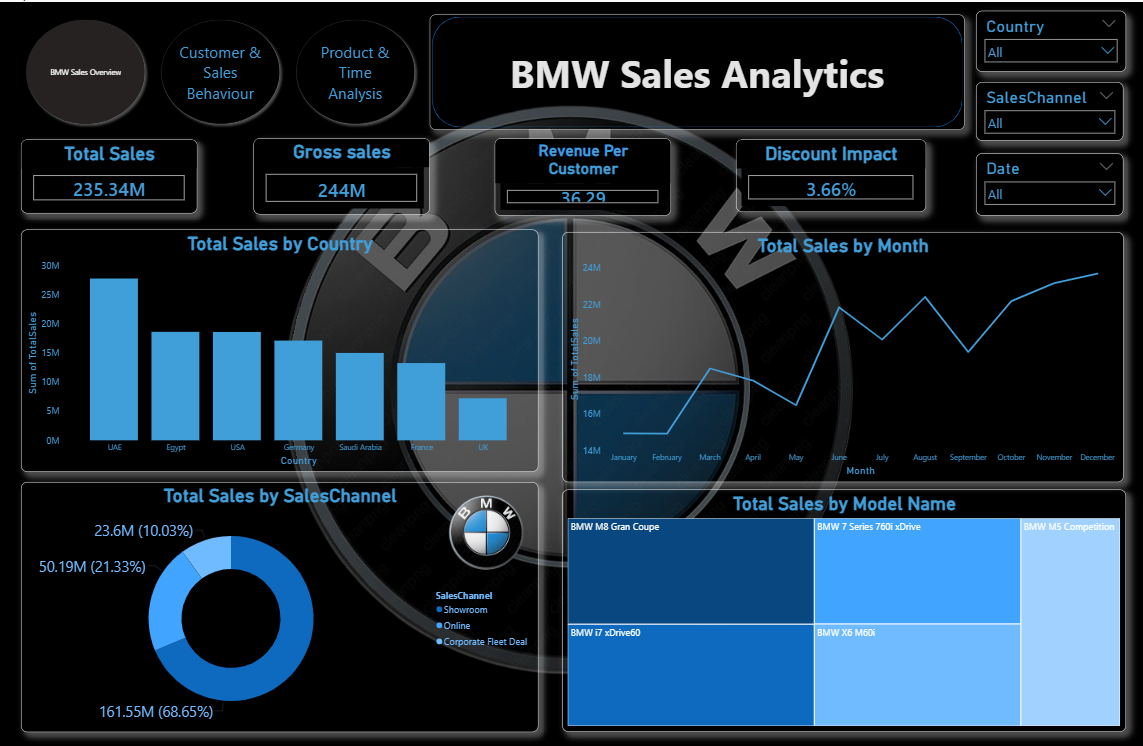

Layout of this report page (visuals, bound fields, positions):
{"tool":"powerbi","page":{"name":"BMW Sales Overview","canvas":[2000,1300],"ordinal":0},"visuals":[{"type":"image","box":[100.2,100.2,1777.5,1171.9],"z":0},{"type":"shape","box":[755.9,21.8,932.3,200.4],"z":1000},{"type":"cardVisual","title":"Gross sales","fields":{"Data":["Fact_Sales5.Gross Sales"]},"box":[448.7,237.4,307.1,132.9],"z":2000},{"type":"cardVisual","title":"Total Sales","fields":{"Data":["Sum(Fact_Sales5.TotalSales)"]},"box":[43.6,239.6,307.1,128.5],"z":3000},{"type":"cardVisual","title":"Revenue Per Customer","fields":{"Data":["Fact_Sales5.Revenue per Customer"]},"box":[869.1,237.4,307.1,135.1],"z":4000},{"type":"cardVisual","title":"Discount Impact","fields":{"Data":["Fact_Sales5.Discount Impact %"]},"box":[1289.6,239.6,331.1,126.3],"z":5000},{"type":"lineChart","title":"Total Sales by Month","fields":{"Y":["Sum(Fact_Sales5.TotalSales)"],"Category":["Dim_Date3.Date.Variation.Date Hierarchy.Month"]},"box":[986.8,400.8,978.1,435.7],"z":6000},{"type":"clusteredColumnChart","title":" Total Sales by Country","fields":{"Y":["Sum(Fact_Sales5.TotalSales)"],"Category":["Dim_Dealers4.Country"]},"box":[43.6,396.4,901.8,422.6],"z":7000},{"type":"donutChart","title":"Total Sales by SalesChannel","fields":{"Y":["Sum(Fact_Sales5.TotalSales)"],"Category":["Fact_Sales5.SalesChannel"]},"box":[43.6,836.5,901.8,435.7],"z":8000},{"type":"treemap","title":" Total Sales by Model Name","fields":{"Group":["Dim_Cars1.FullModelName"],"Values":["Sum(Fact_Sales5.TotalSales)"]},"box":[986.8,849.5,982.4,422.6],"z":9000},{"type":"slicer","fields":{"Values":["Dim_Date3.Date.Variation.Date Hierarchy.Year"]},"box":[1707.8,263.6,257,108.9],"z":10000},{"type":"slicer","fields":{"Values":["Dim_Dealers4.Country"]},"box":[1707.8,15.2,261.4,106.7],"z":11000},{"type":"pageNavigator","box":[43.6,21.8,697.1,200.4],"z":12000},{"type":"slicer","fields":{"Values":["Fact_Sales5.SalesChannel"]},"box":[1707.8,139.4,257,102.4],"z":13000},{"type":"image","box":[740.6,849.5,224.4,152.5],"z":14000}]}

Visuals, with their boxes in screenshot pixels (x1, y1, x2, y2), scaled from the page's 2000x1300 canvas onto the 1143x746 screenshot:
image: pyautogui.locateOnScreen(57, 57, 1073, 730)
shape: pyautogui.locateOnScreen(432, 13, 965, 128)
"Gross sales" cardVisual: pyautogui.locateOnScreen(256, 136, 432, 212)
"Total Sales" cardVisual: pyautogui.locateOnScreen(25, 137, 200, 211)
"Revenue Per Customer" cardVisual: pyautogui.locateOnScreen(497, 136, 672, 214)
"Discount Impact" cardVisual: pyautogui.locateOnScreen(737, 137, 926, 210)
"Total Sales by Month" lineChart: pyautogui.locateOnScreen(564, 230, 1123, 480)
" Total Sales by Country" clusteredColumnChart: pyautogui.locateOnScreen(25, 227, 540, 470)
"Total Sales by SalesChannel" donutChart: pyautogui.locateOnScreen(25, 480, 540, 730)
" Total Sales by Model Name" treemap: pyautogui.locateOnScreen(564, 487, 1125, 730)
slicer - Dim_Date3.Date.Variation.Date Hierarchy.Year: pyautogui.locateOnScreen(976, 151, 1123, 214)
slicer - Dim_Dealers4.Country: pyautogui.locateOnScreen(976, 9, 1125, 70)
pageNavigator: pyautogui.locateOnScreen(25, 13, 423, 128)
slicer - Fact_Sales5.SalesChannel: pyautogui.locateOnScreen(976, 80, 1123, 139)
image: pyautogui.locateOnScreen(423, 487, 551, 575)
